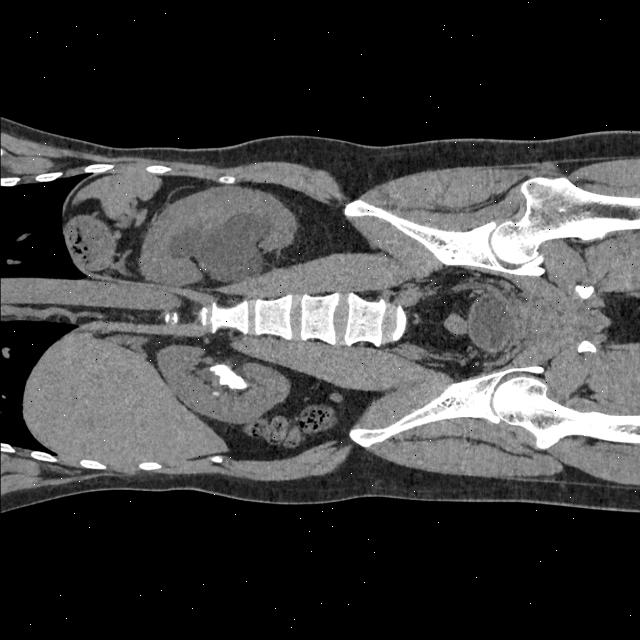kidneystone: (211, 361, 247, 388)
